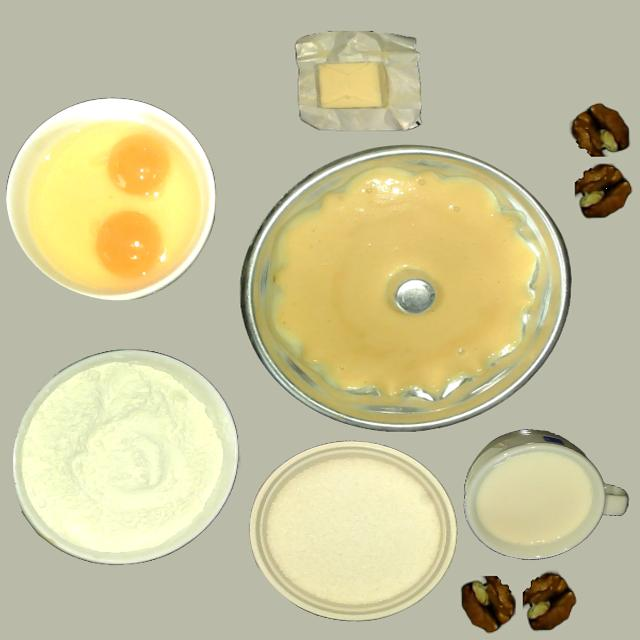Egg: (96, 212, 163, 276), (107, 134, 171, 196)
Flour: (13, 350, 235, 566)
Milk: (477, 453, 589, 546)
Sugar: (250, 440, 456, 620)
